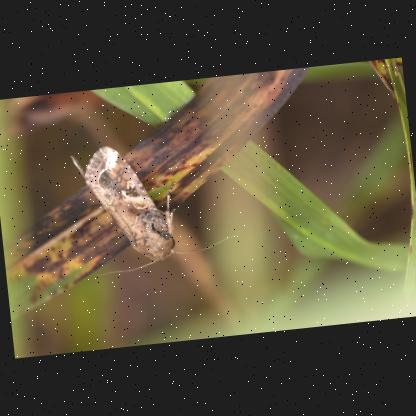Fall Armyworm Moth: (66, 131, 244, 280)
